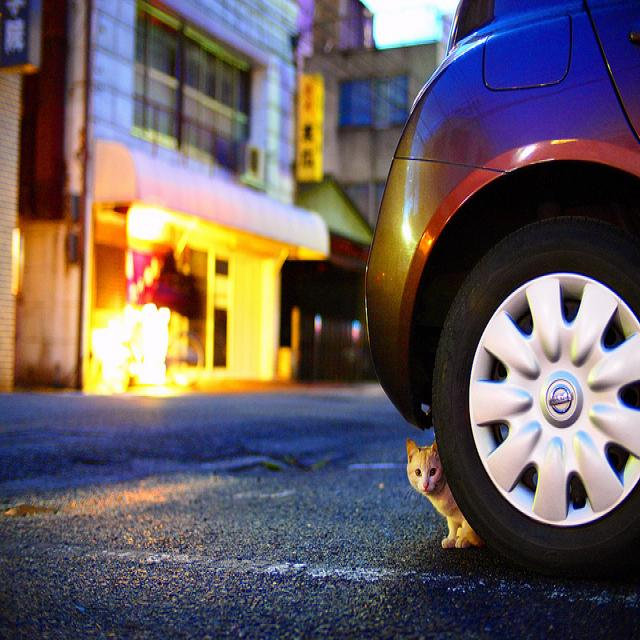Vehicle: (364, 3, 640, 586)
